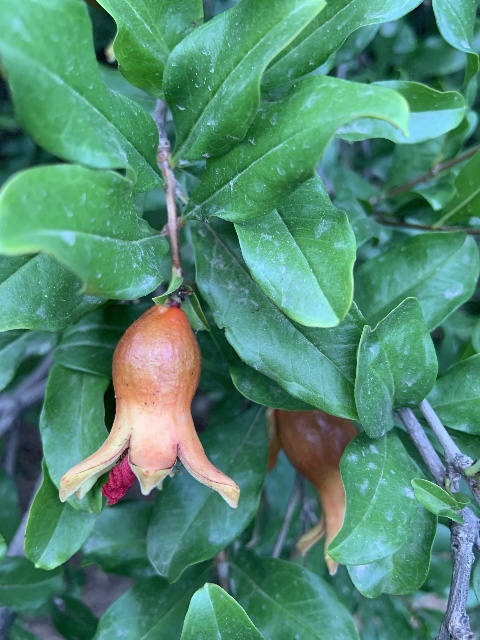early-fruit: (59, 303, 239, 509), (274, 407, 359, 574)
